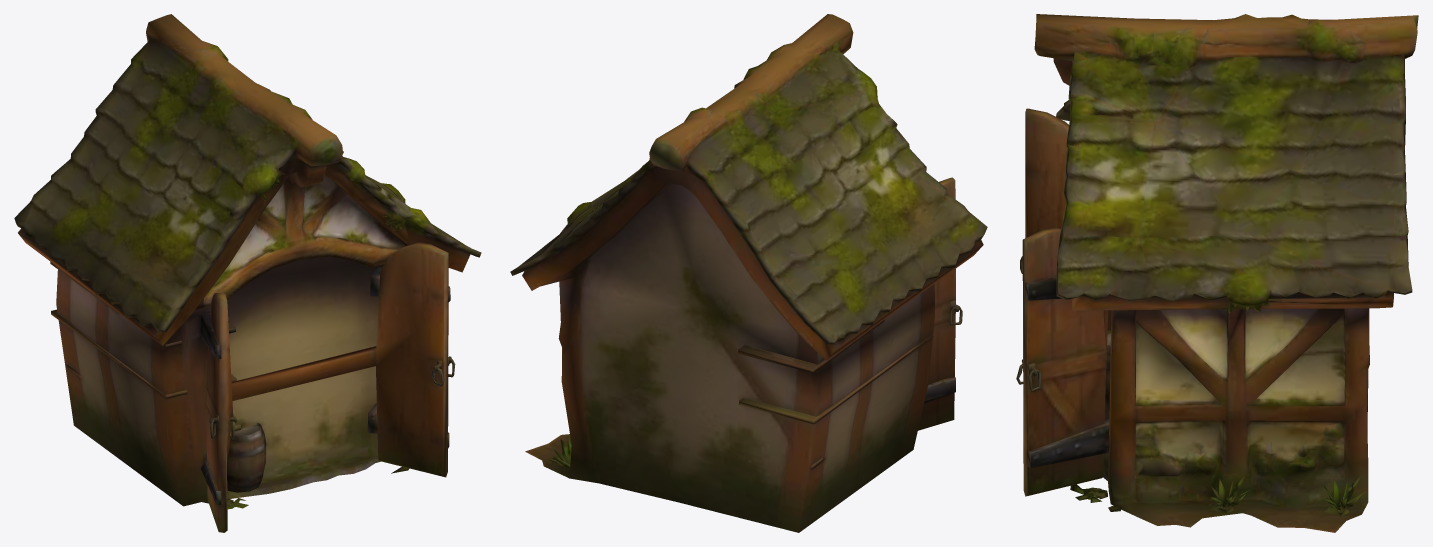
The model's file is civic_storage_shed.glb.
3 renders of one model, left to right at view 1: azimuth 30°, elevation 25°; view 2: azimuth 150°, elevation 25°; view 3: azimuth 270°, elevation 25°, orthographic. The views are drawn at different scales.
Parts seen in each view (by area): view 1: tripo_node_748e1dac-e0ff-42b3-b2c0-b4f84ef4a342; view 2: tripo_node_748e1dac-e0ff-42b3-b2c0-b4f84ef4a342; view 3: tripo_node_748e1dac-e0ff-42b3-b2c0-b4f84ef4a342.
Boxes of the visible parts, left/top/right/bottom form: tripo_node_748e1dac-e0ff-42b3-b2c0-b4f84ef4a342: left=14, top=14, right=481, bottom=532; tripo_node_748e1dac-e0ff-42b3-b2c0-b4f84ef4a342: left=510, top=14, right=987, bottom=532; tripo_node_748e1dac-e0ff-42b3-b2c0-b4f84ef4a342: left=1016, top=14, right=1418, bottom=532.
Size of the model in its own units: 4.18 by 4.5 by 3.87.
1 material, 1 textured.
